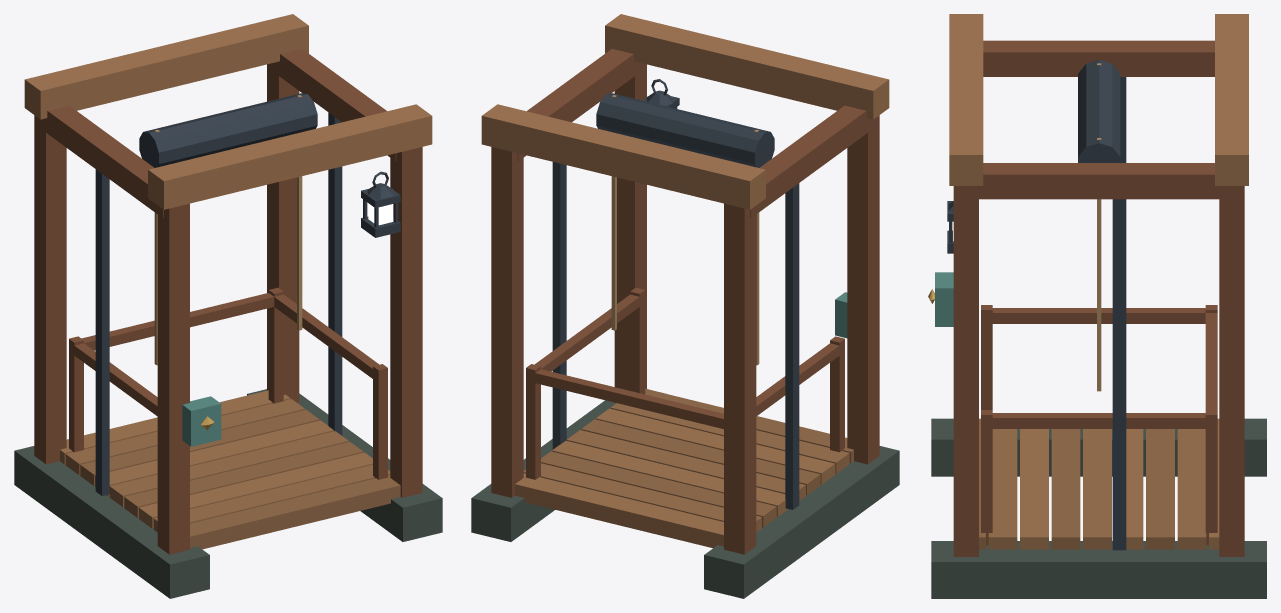
The model's file is elevator.glb.
The picture shows the model from 3 angles, left to right: view 1: azimuth 30°, elevation 25°; view 2: azimuth 150°, elevation 25°; view 3: azimuth 270°, elevation 25°; orthographic projection. The views are drawn at different scales.
Visible parts, largest first — view 1: geometry, platform; view 2: geometry, platform; view 3: geometry, platform.
Part boxes in pixels (x1,y1,x2,y2): geometry: [14, 14, 442, 598]; platform: [60, 287, 400, 549]; geometry: [471, 14, 899, 598]; platform: [515, 287, 853, 547]; geometry: [928, 14, 1266, 598]; platform: [979, 305, 1219, 549].
Bounding box in the file's own units: 1.99 × 2.87 × 1.99.
